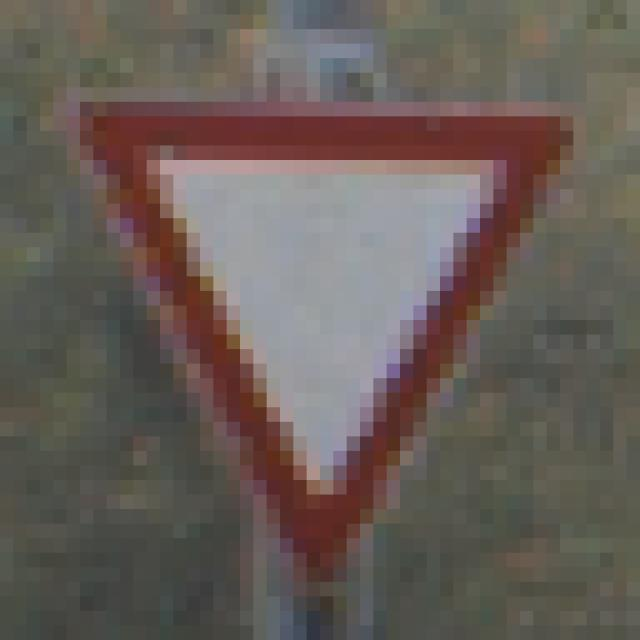Give Way: (68, 89, 574, 569)
